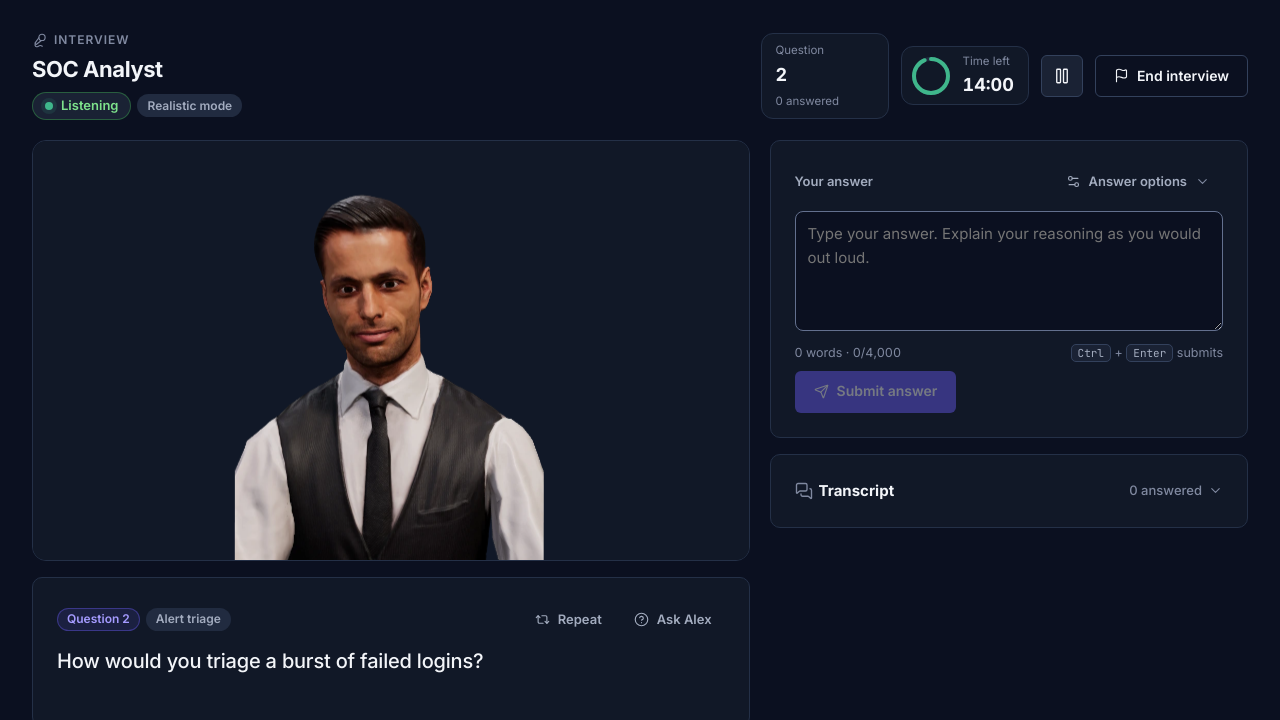
Test case: real-interview interactions › lets the candidate ask Alex a clarifying question and shows the reply
Click the button "Ask Alex" at (673, 619), box [621,602,725,636]
(page scrolled)
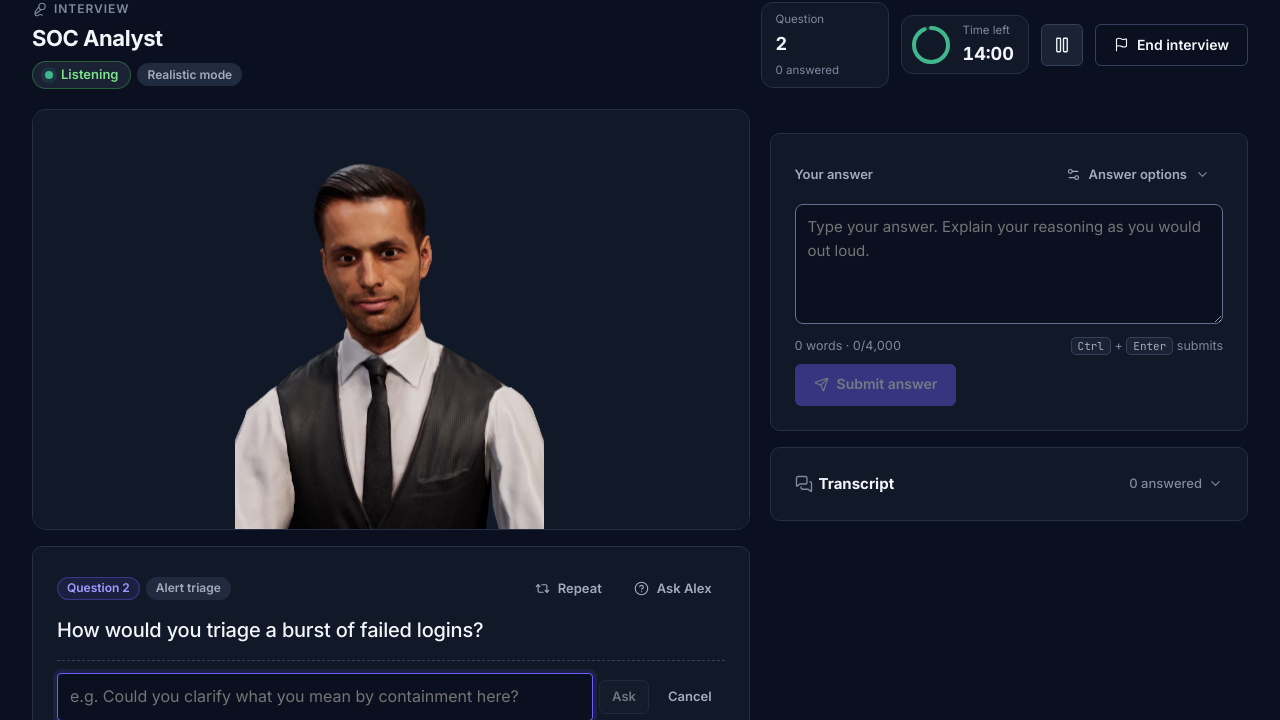
Type "Is this on a VPN?" into the field named "Your question for Alex" at (325, 697), box [57,673,593,719]
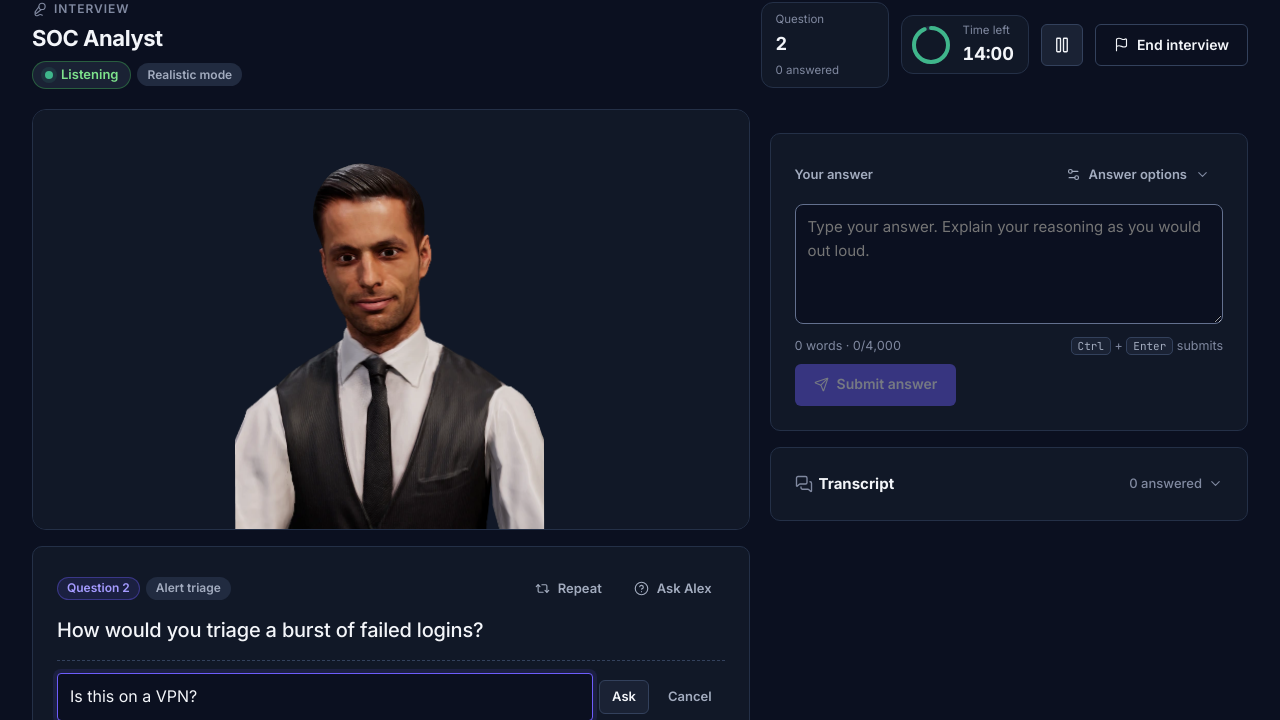
Click the button "Ask" at (624, 697), box [599,680,649,714]
(page scrolled)
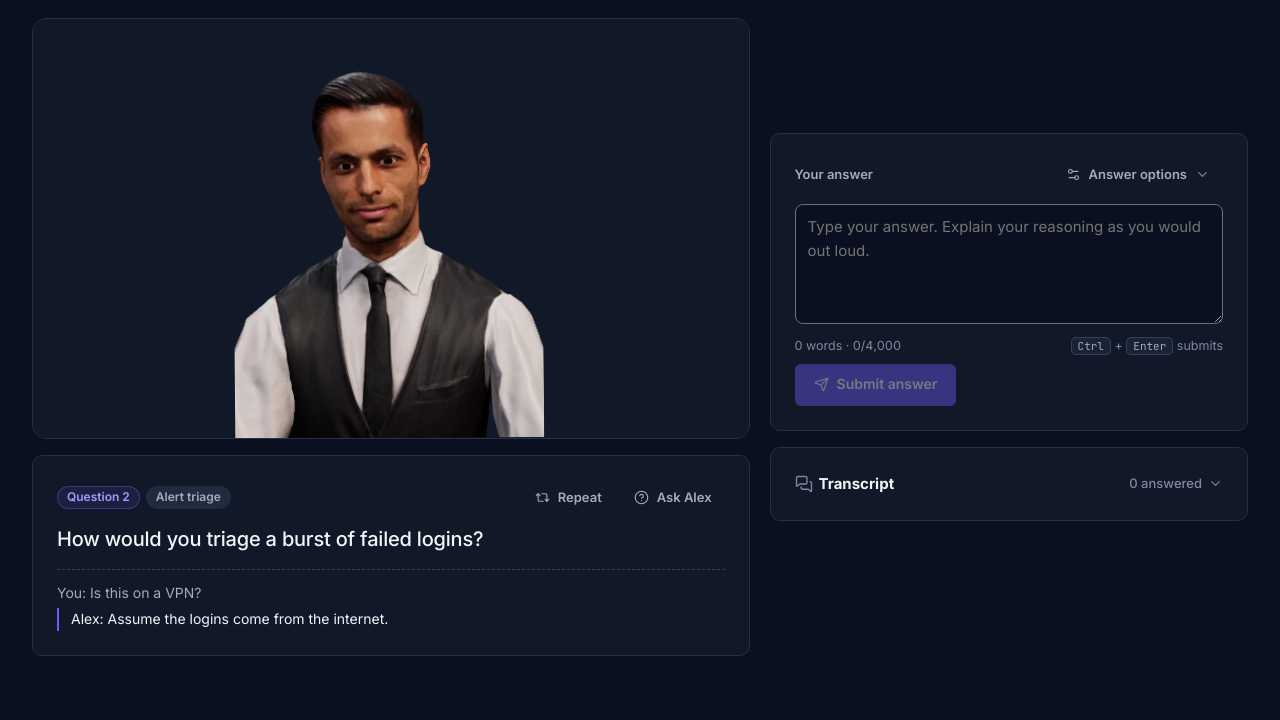
Now the text "Alex: Assume the logins come from the internet." is shown, box [57,608,725,631]
